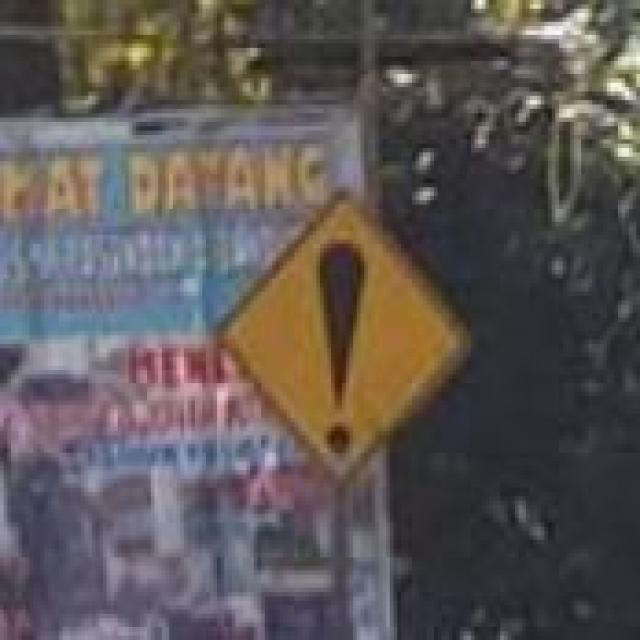traffic sign: (217, 183, 474, 488)
